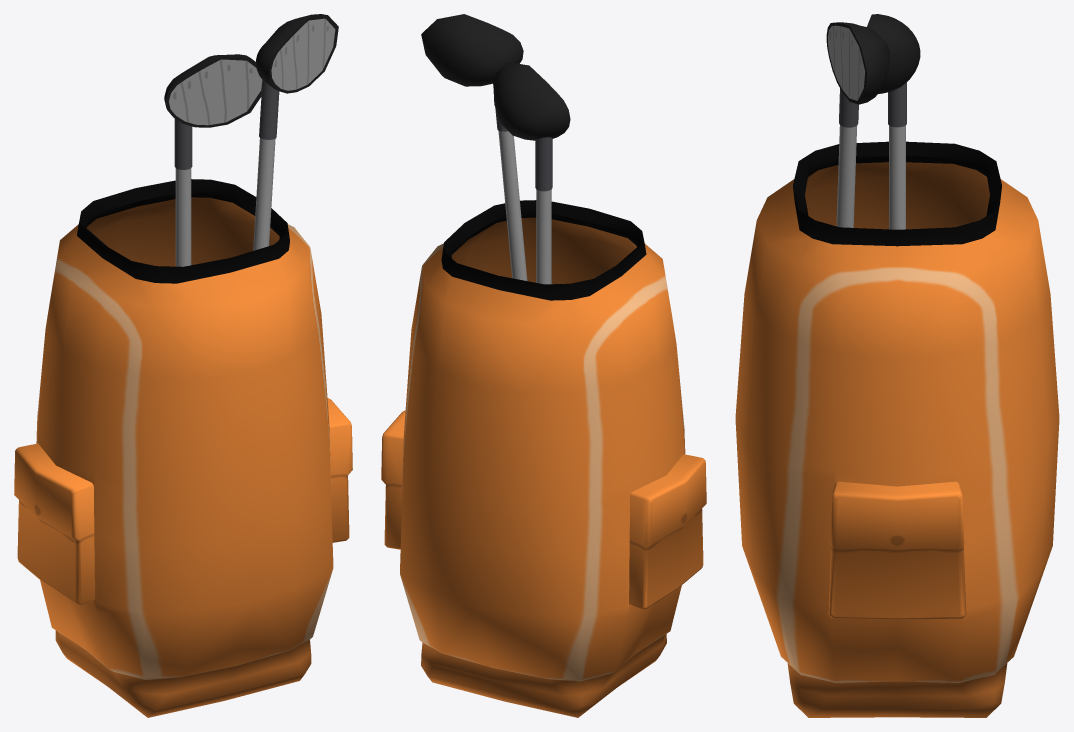
File: BolsaGolf.fbx
3 renders of one model, left to right at view 1: azimuth 30°, elevation 25°; view 2: azimuth 150°, elevation 25°; view 3: azimuth 270°, elevation 25°, orthographic. The views are drawn at different scales.
Parts seen in each view (by area): view 1: Bolsa_Golf; view 2: Bolsa_Golf; view 3: Bolsa_Golf.
Part boxes in pixels (x1,y1,x2,y2): Bolsa_Golf: [14, 14, 352, 717]; Bolsa_Golf: [381, 14, 706, 717]; Bolsa_Golf: [735, 14, 1059, 717].
Bounding box in the file's own units: 81.37 × 169 × 70.
Materials: 2 (2 with a texture image).
